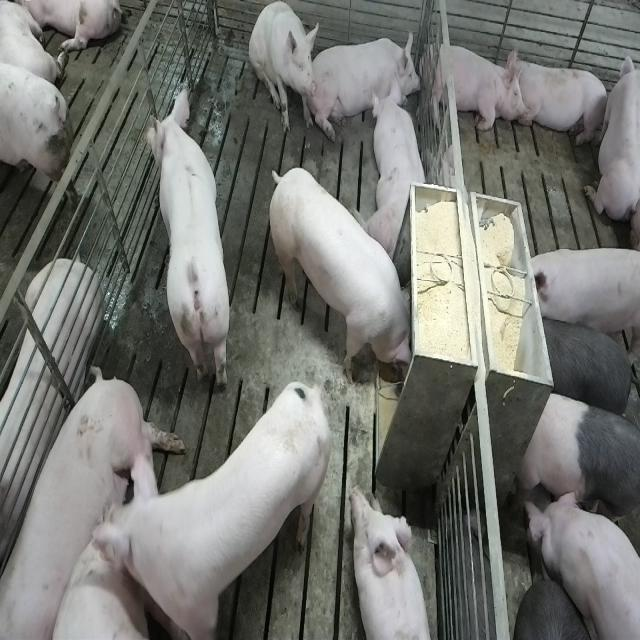Feeding: (273, 166, 421, 389)
Lateral_lying: (3, 362, 188, 636), (0, 258, 103, 582)
Sitting: (250, 2, 320, 136)
Standing: (104, 373, 338, 632), (144, 85, 233, 396), (516, 390, 638, 570), (521, 486, 638, 640), (524, 311, 636, 423), (526, 246, 637, 358)
Sternal_lying: (349, 485, 433, 640), (313, 26, 422, 136), (366, 82, 430, 263), (584, 42, 637, 240), (425, 36, 525, 135), (512, 52, 610, 149)
